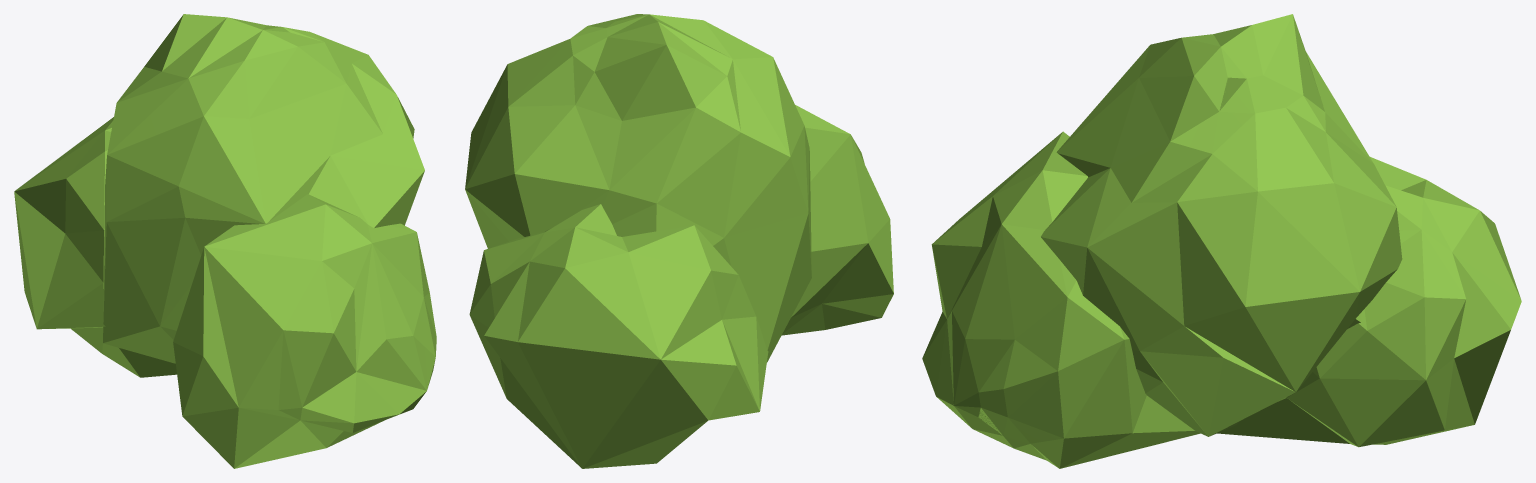
Rendered from bush.glb.
The picture shows the model from 3 angles, left to right: view 1: azimuth 30°, elevation 25°; view 2: azimuth 150°, elevation 25°; view 3: azimuth 270°, elevation 25°; orthographic projection. The views are drawn at different scales.
Visible parts, largest first — view 1: Node; view 2: Node; view 3: Node.
Part boxes in pixels (x1,y1,x2,y2): Node: [14, 14, 436, 468]; Node: [465, 14, 893, 468]; Node: [922, 14, 1521, 468].
Size of what is drawn, in the model's own units: 0.74 by 0.8 by 1.01.
